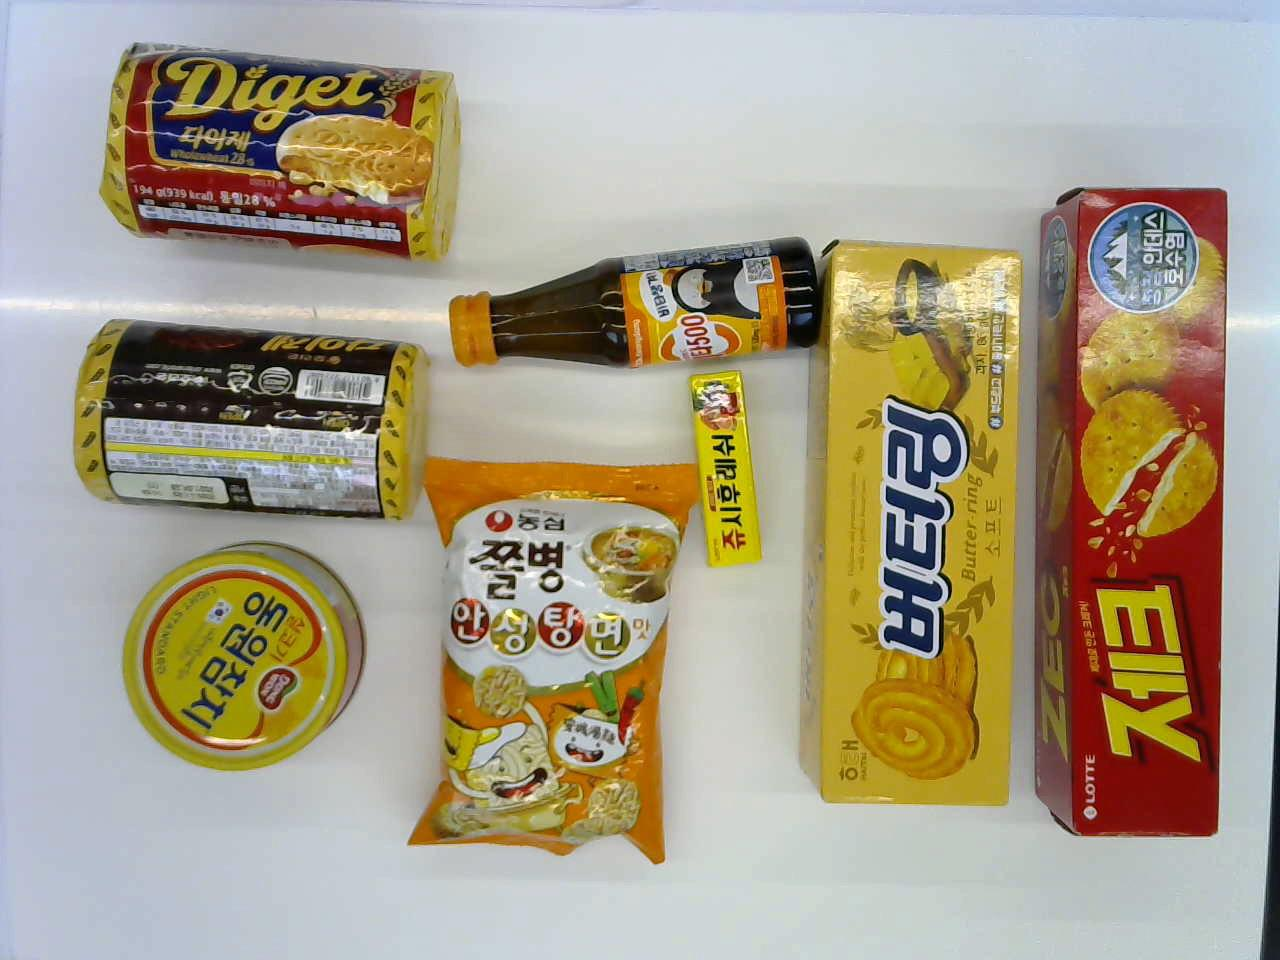buttering: (795, 241, 1032, 814)
diget_choco: (59, 305, 430, 529)
diget_ori: (91, 37, 462, 260)
jjolbyung_noodle: (425, 452, 695, 868)
juicyfresh: (693, 371, 763, 584)
tuna: (120, 535, 360, 775)
vita500: (441, 226, 824, 376)
zec: (1035, 184, 1250, 848)
